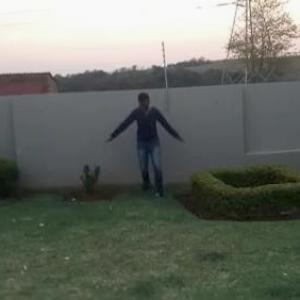land: (106, 89, 188, 204)
